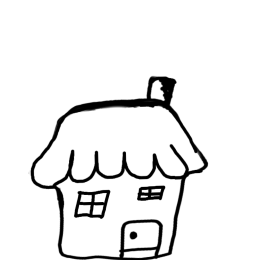bottom_placed_house: (0, 0, 258, 259)
chimney: (134, 64, 184, 120)
closed_window: (71, 184, 117, 224), (134, 183, 172, 206)
door: (115, 216, 170, 260)
roof: (28, 93, 228, 194)
wall: (46, 150, 186, 260)
